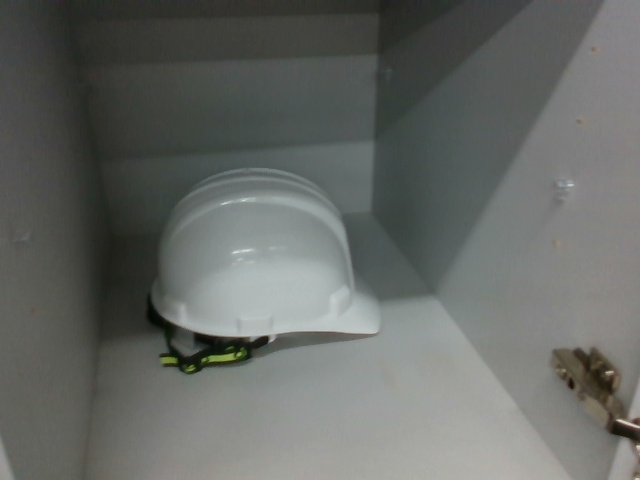helmet: (147, 162, 390, 375)
